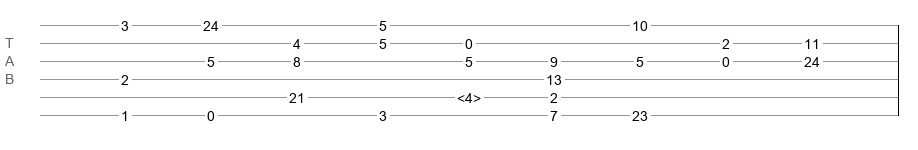0: (207, 108, 215, 118), (465, 36, 473, 46), (722, 54, 730, 64)
1: (121, 108, 129, 118)
10: (632, 18, 648, 28)
11: (804, 36, 820, 46)
13: (546, 72, 562, 82)
2: (121, 72, 129, 82), (550, 90, 558, 100), (722, 36, 730, 46)
21: (289, 90, 305, 100)
23: (632, 108, 648, 118)
24: (203, 18, 219, 28), (804, 54, 820, 64)
3: (121, 18, 129, 28), (379, 108, 387, 118)
4: (293, 36, 301, 46)
5: (207, 54, 215, 64), (379, 36, 387, 46), (379, 18, 387, 28), (465, 54, 473, 64), (636, 54, 644, 64)
7: (550, 108, 558, 118)
8: (293, 54, 301, 64)
9: (550, 54, 558, 64)
harmonic: (457, 90, 481, 100)
